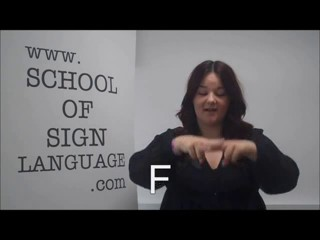F: (175, 129, 261, 173)
